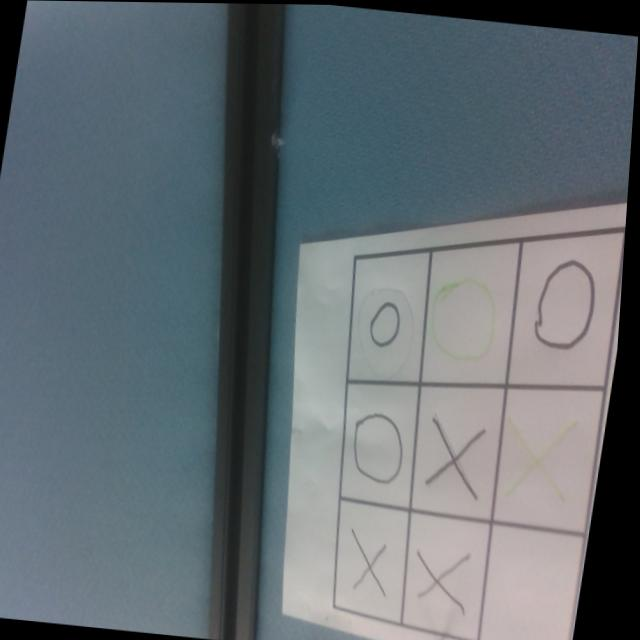null: (482, 518, 593, 640)
o: (423, 273, 505, 365), (533, 255, 604, 353), (350, 409, 416, 488), (370, 299, 407, 348)
table: (298, 200, 630, 640)
x: (503, 410, 582, 501), (428, 412, 496, 498), (416, 543, 481, 610), (351, 527, 401, 596)
